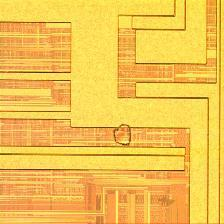COATING BAD: (112, 125, 135, 147)
